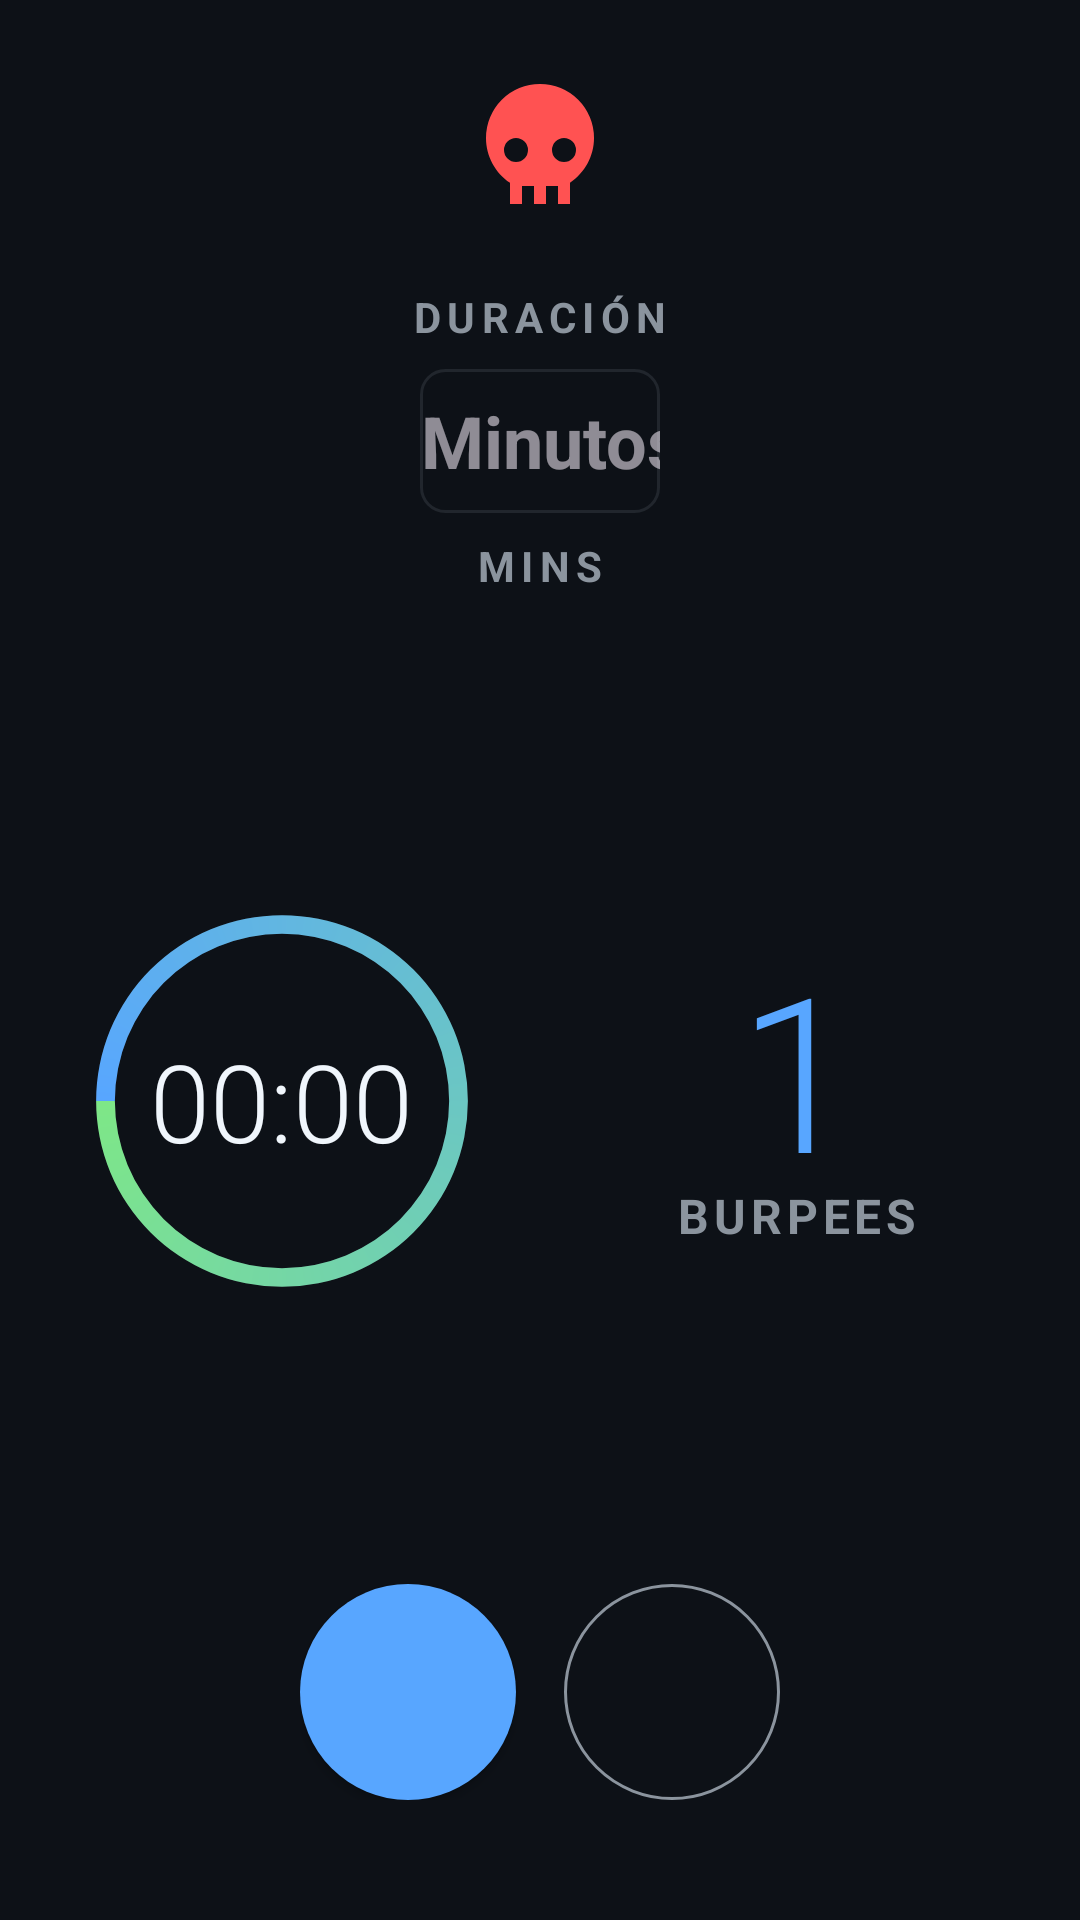

Icons on this 1080 × 1920 Android screen, each with the point to tap as [x,y]:
Muerte por Burpees: [540,144]
